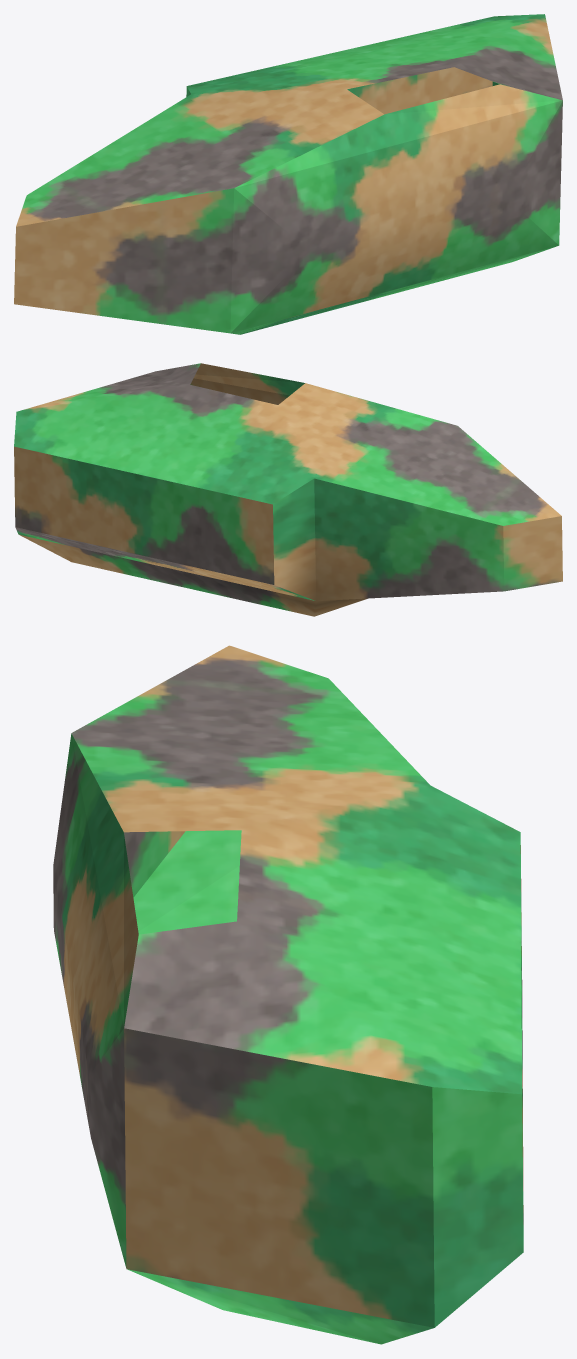
File: rightEngine.obj
The picture shows the model from 3 angles, top to bottom: view 1: azimuth 30°, elevation 25°; view 2: azimuth 150°, elevation 25°; view 3: azimuth 270°, elevation 25°; orthographic projection. The views are drawn at different scales.
Visible parts, largest first — view 1: Engines2; view 2: Engines2; view 3: Engines2.
Boxes of the visible parts, bbox=[...] form: Engines2: bbox=[14, 14, 562, 334]; Engines2: bbox=[14, 363, 562, 616]; Engines2: bbox=[53, 645, 523, 1344].
Size of the model in its own units: 2.56 by 0.8596 by 1.05.
Materials: 1 (1 with a texture image).
